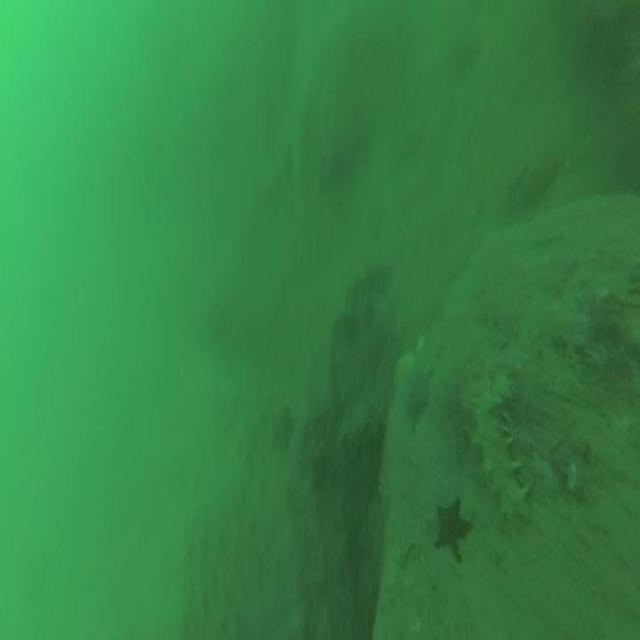holothurian: (468, 378, 534, 529)
starfish: (433, 492, 475, 568), (405, 362, 434, 434)
